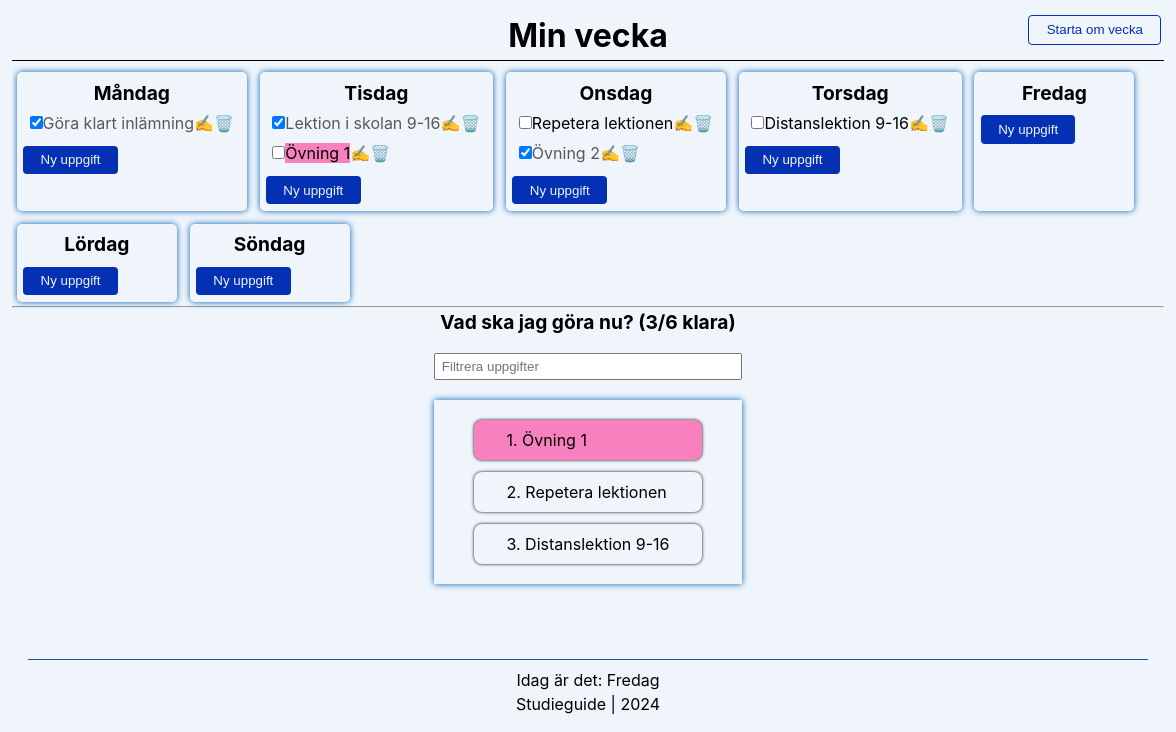
Test: Delete, change and add.  #2 & #3 › loads page, deletes a todo-item and changes another todo-item, then adds a new one
The image size is (1176, 732).
Click the text with test id "delete-icon" next to "Göra klart inlämning": (224, 123) x1=214 y1=113 x2=234 y2=133
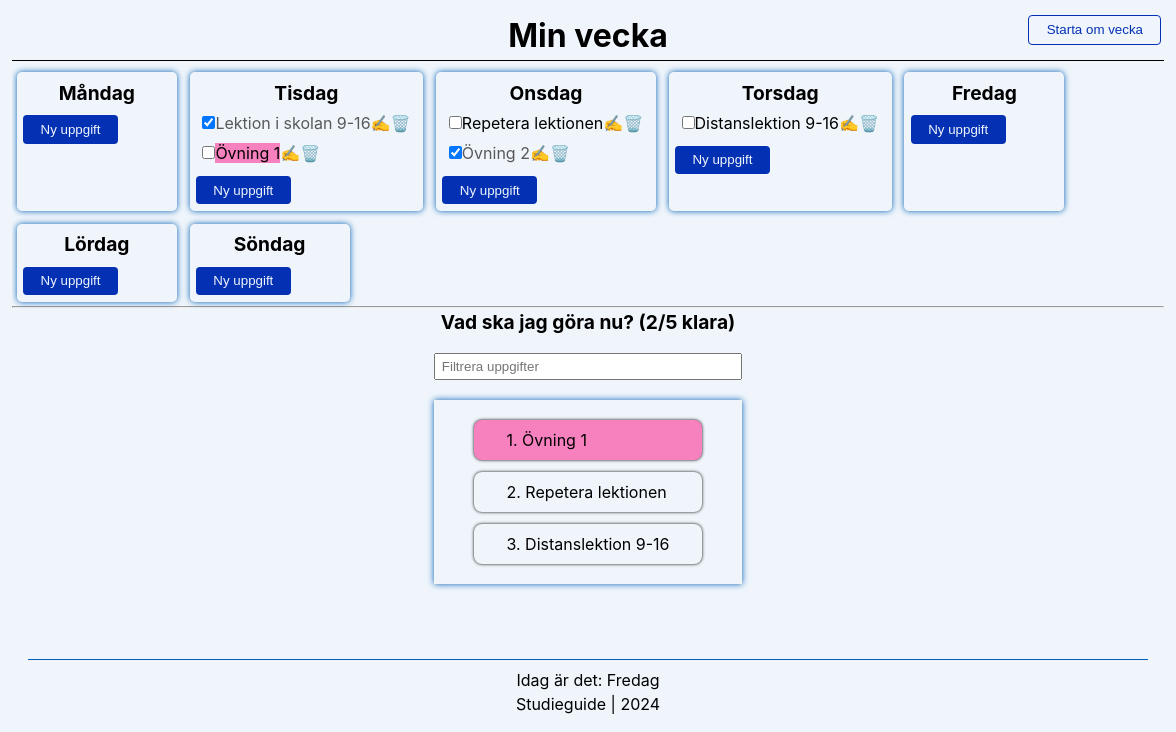
Now the number of elements with test id "delete-icon" is 5, box x1=390 y1=113 x2=410 y2=133; x1=300 y1=143 x2=320 y2=163; x1=623 y1=113 x2=643 y2=133; x1=550 y1=143 x2=570 y2=163; x1=859 y1=113 x2=879 y2=133
Click the text with test id "edit-icon" next to "Lektion i skolan 9-16": (381, 123) x1=371 y1=113 x2=391 y2=133
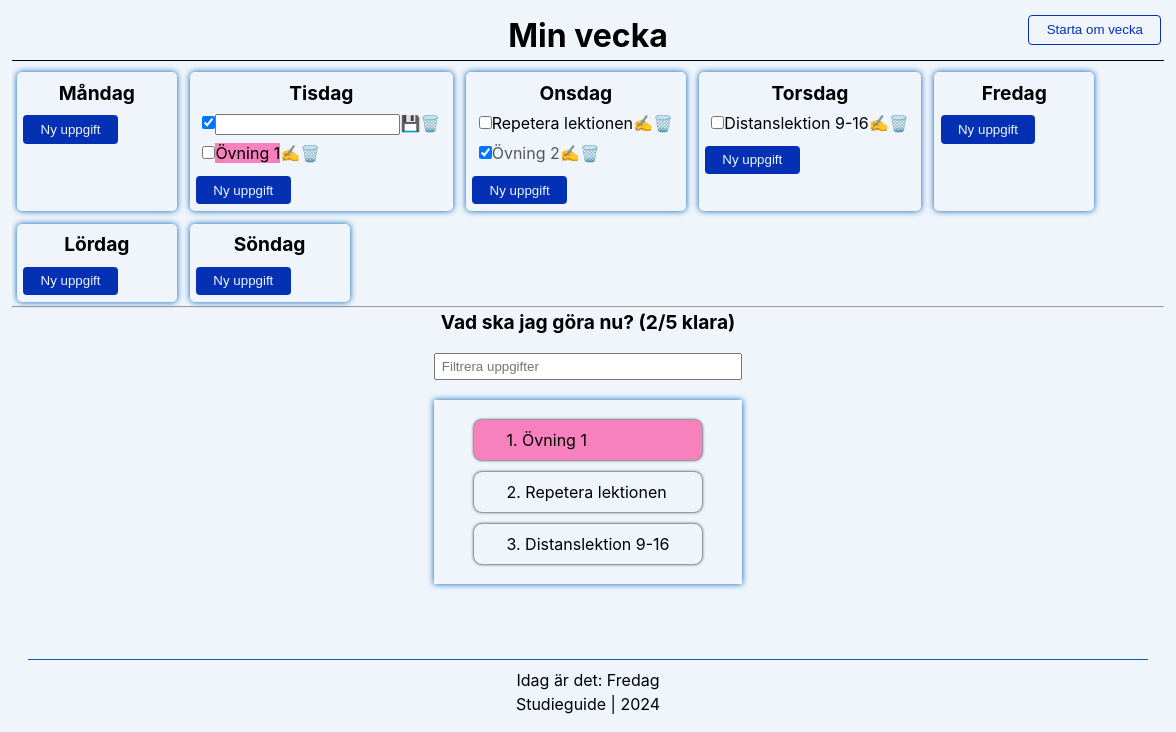
In the field with test id "input-field": (308, 125) x1=215 y1=114 x2=400 y2=135, type "Gör uppgift 7B"
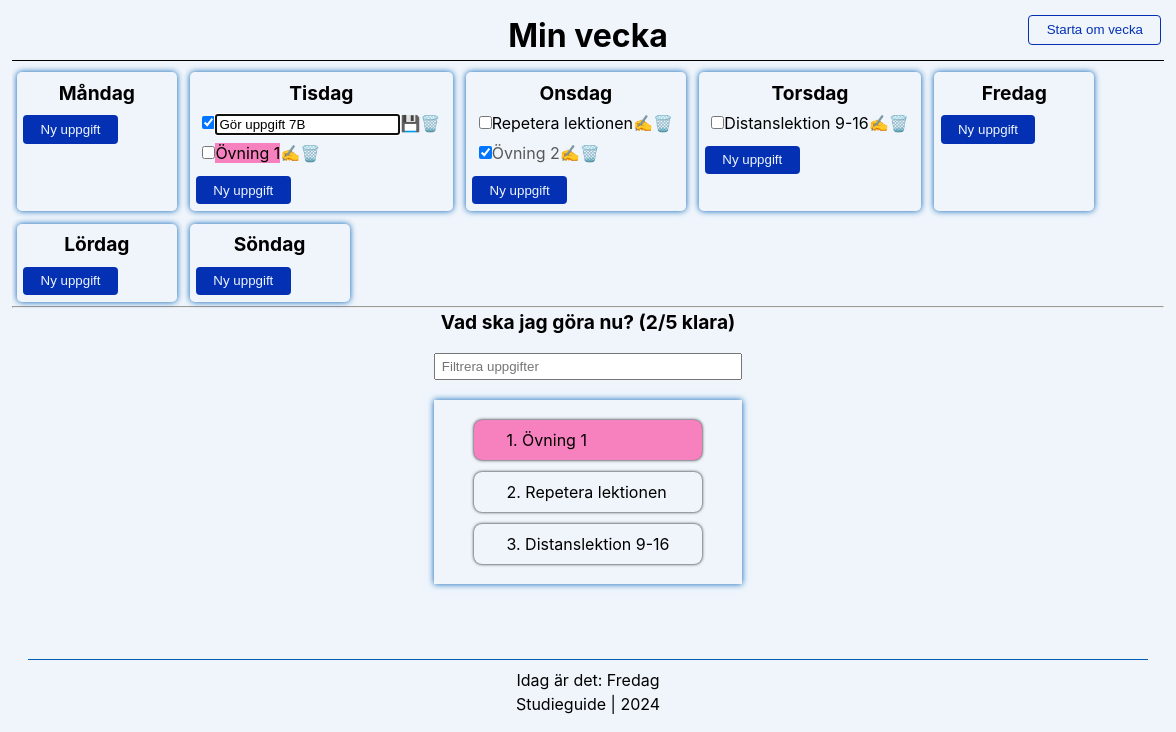
Click the text with test id "save-icon": (410, 123) x1=400 y1=113 x2=420 y2=133
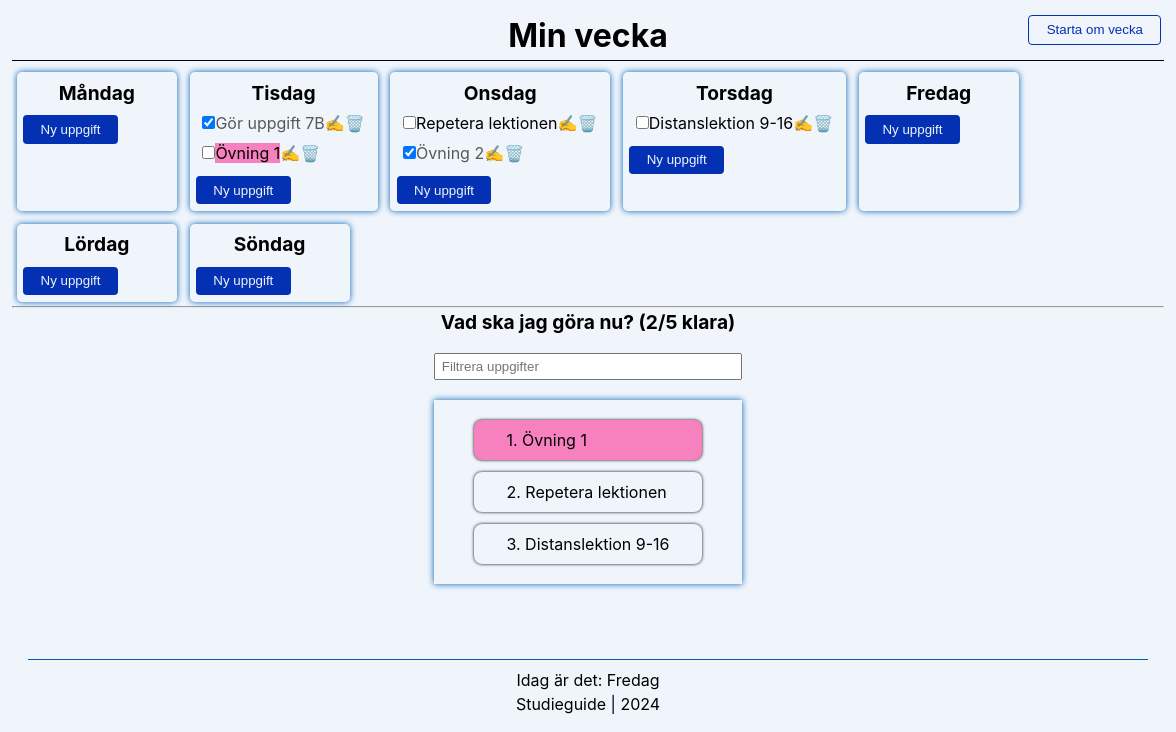
Now the text "Gör uppgift 7B" is shown, box x1=215 y1=113 x2=325 y2=133
Click the button with test id "add-btn" below "Måndag": (71, 129) x1=23 y1=115 x2=118 y2=143
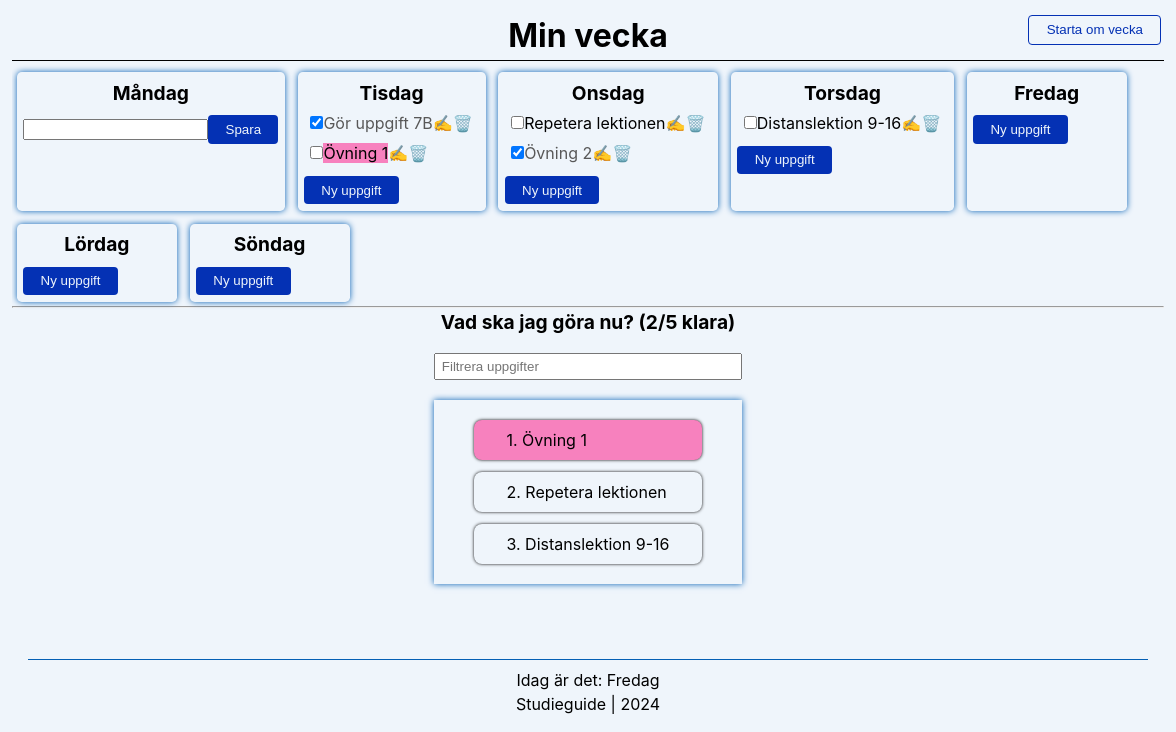
In the field with test id "add-input": (116, 130) x1=23 y1=119 x2=208 y2=140, type "Jobba på porfolio sida"
Click the button with test id "add-btn" showing "Spara": (243, 129) x1=208 y1=115 x2=278 y2=143
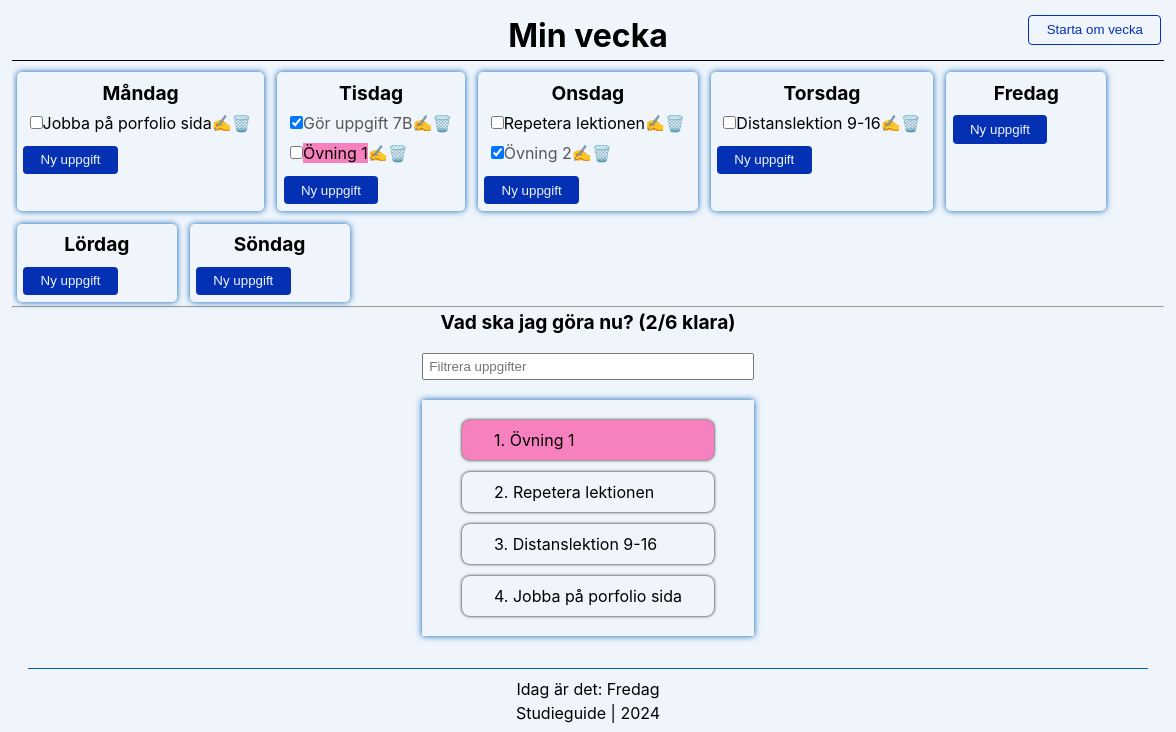
Now the text "Jobba på porfolio sida" is shown, box x1=43 y1=113 x2=212 y2=133
